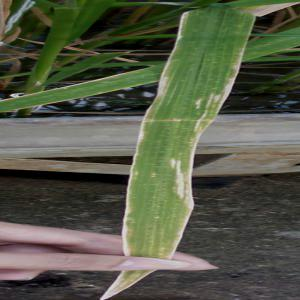2 BacterialBlight: (121, 98, 194, 258)
